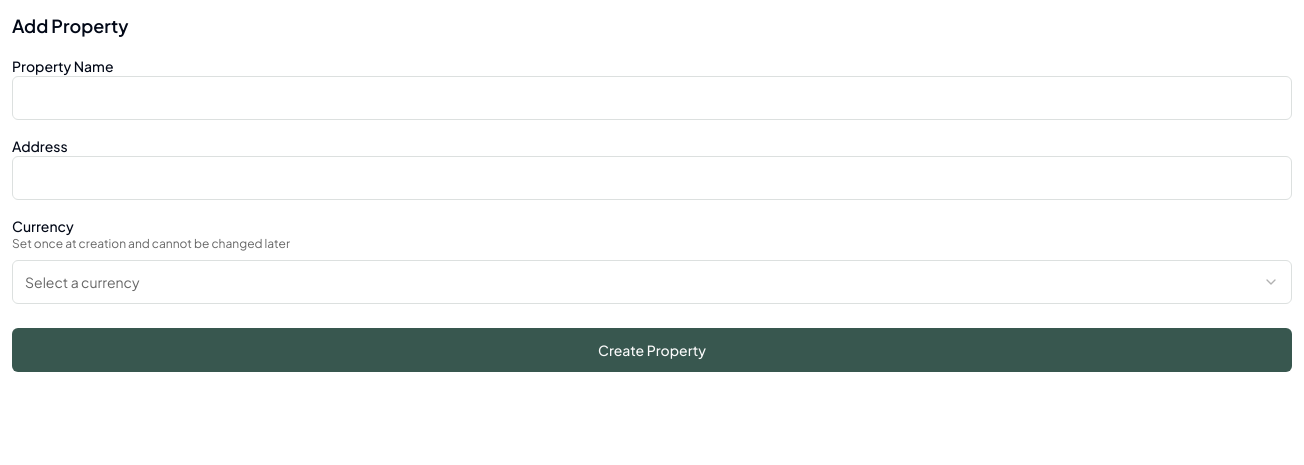
Test case: PropertyForm › bad cases › shows validation errors when required fields are empty
The width and height of the screenshot is (1304, 465).
Click the button "Create Property" at x=652, y=350, box [12,328,1292,372]
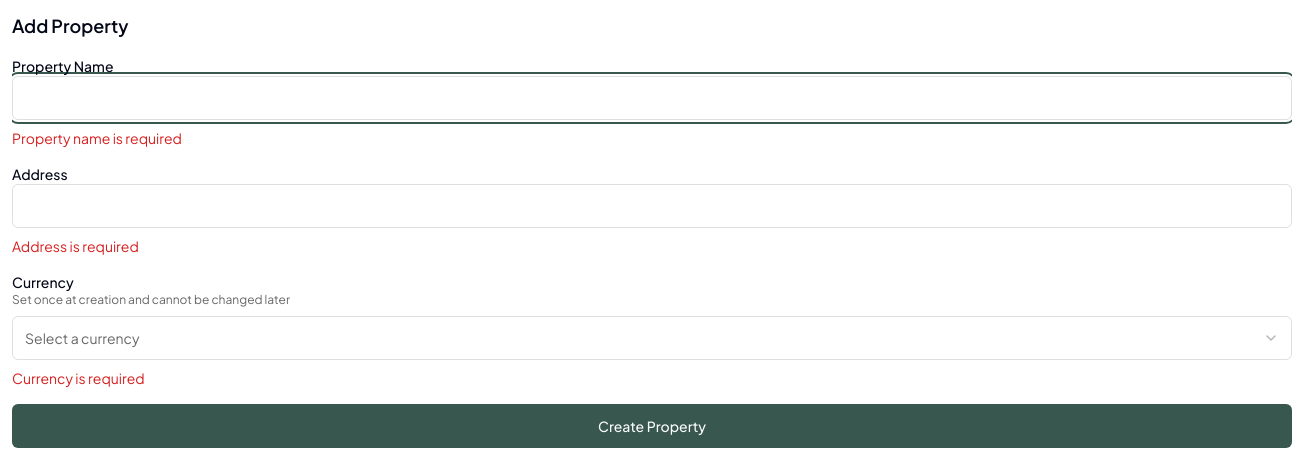
Expected: the text "Property name is required" is shown, [12,129,182,147]
Expected: the text "Address is required" is shown, [12,237,139,255]
